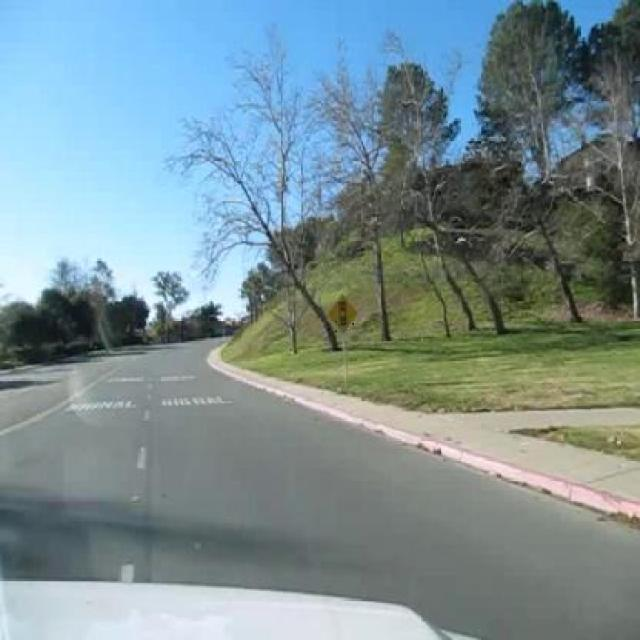signalAhead: (328, 292, 358, 334)
